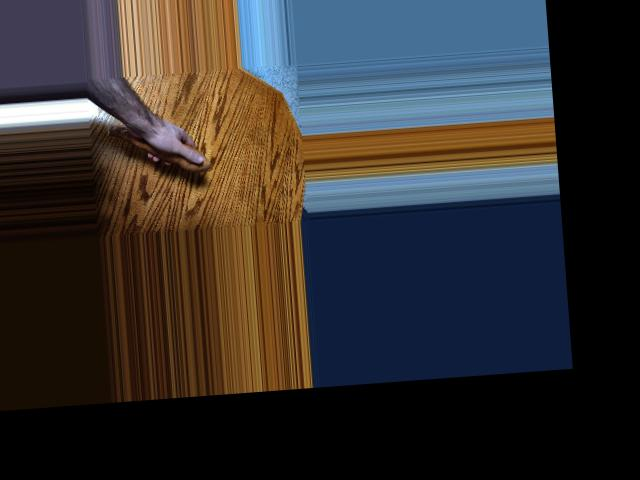sweet_potato: (101, 115, 212, 181)
